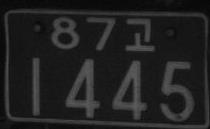1: (20, 57, 52, 116)
4: (64, 58, 100, 118), (113, 59, 147, 120)
5: (159, 60, 195, 122)
7: (86, 15, 116, 51)
8: (49, 16, 80, 49)
고: (124, 17, 155, 52)
